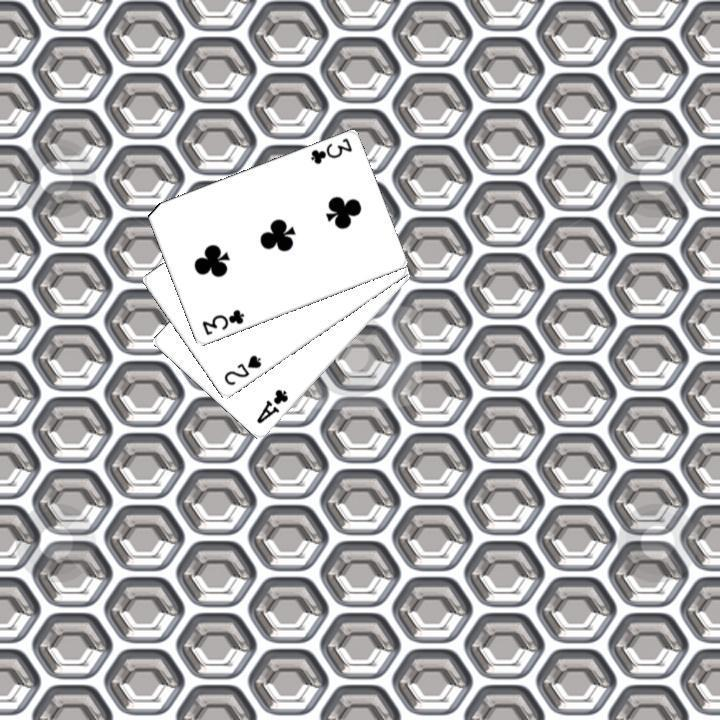2: (219, 351, 263, 388)
3: (197, 305, 246, 338), (306, 134, 354, 167)
A: (252, 385, 290, 426)
